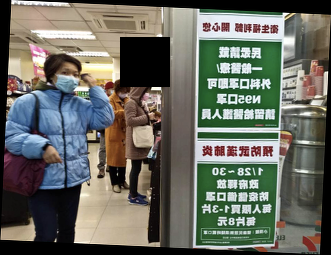with_mask: (54, 66, 80, 96), (116, 89, 130, 100), (142, 89, 151, 102), (108, 87, 116, 96)
